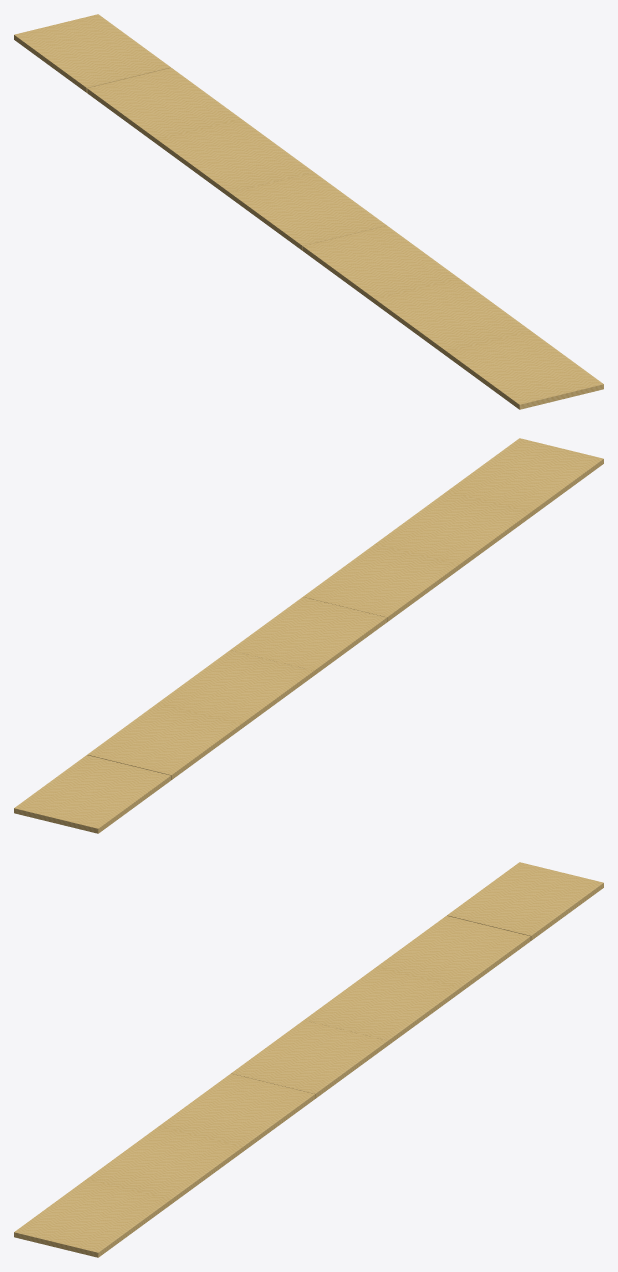
The model's file is stage1.fbx.
The picture shows the model from 3 angles, top to bottom: view 1: azimuth 30°, elevation 25°; view 2: azimuth 150°, elevation 25°; view 3: azimuth 330°, elevation 25°; orthographic projection.
Parts seen in each view (by area): view 1: road.008; view 2: road.008; view 3: road.008.
Part boxes in pixels (left/top/right/bottom): road.008: left=14, top=14, right=603, bottom=409; road.008: left=14, top=438, right=603, bottom=833; road.008: left=14, top=862, right=603, bottom=1257.
Bounding box in the file's own units: 416 × 23.72 × 4322.
Materials: 7 (7 with a texture image).
